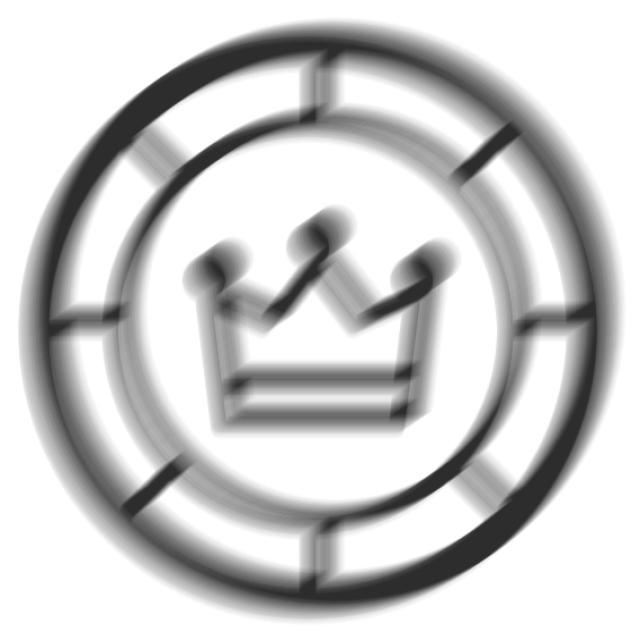coin: (14, 15, 626, 633)
